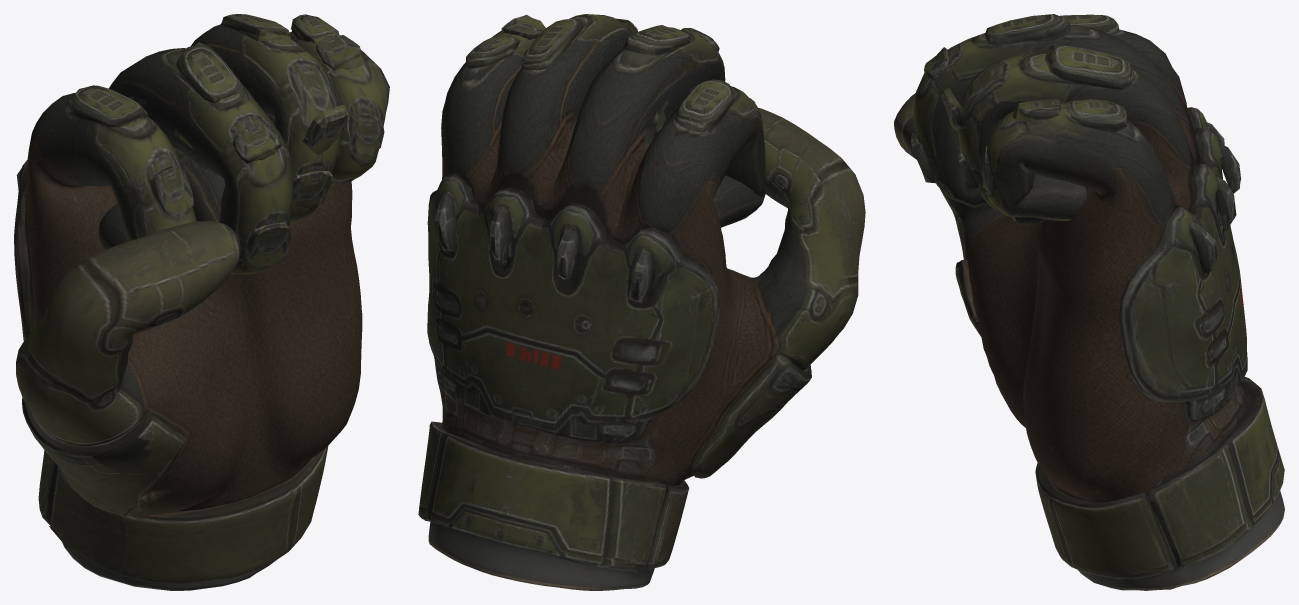
File: DOOM_LEFT_HAND_FIST.glb
3 views of the same model, side by side, from view 1: azimuth 30°, elevation 25°; view 2: azimuth 150°, elevation 25°; view 3: azimuth 270°, elevation 25° (orthographic). The views are drawn at different scales.
Visible parts, largest first — view 1: Mesh0.002; view 2: Mesh0.002; view 3: Mesh0.002.
Boxes of the visible parts, box(x1,y1,x2,y2) form: Mesh0.002: box(14, 14, 389, 590); Mesh0.002: box(418, 14, 865, 590); Mesh0.002: box(894, 14, 1284, 590).
Bounding box in the file's own units: 0.4991 × 0.6815 × 0.4602.
Materials: 1 (1 with a texture image).
